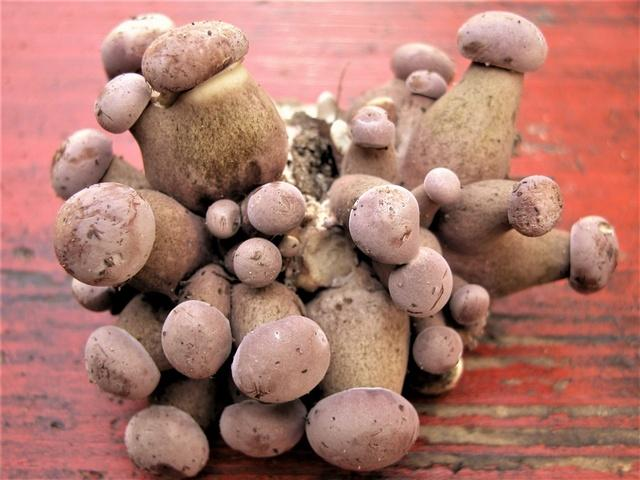Non-edible Mushroom: (49, 8, 629, 477)
